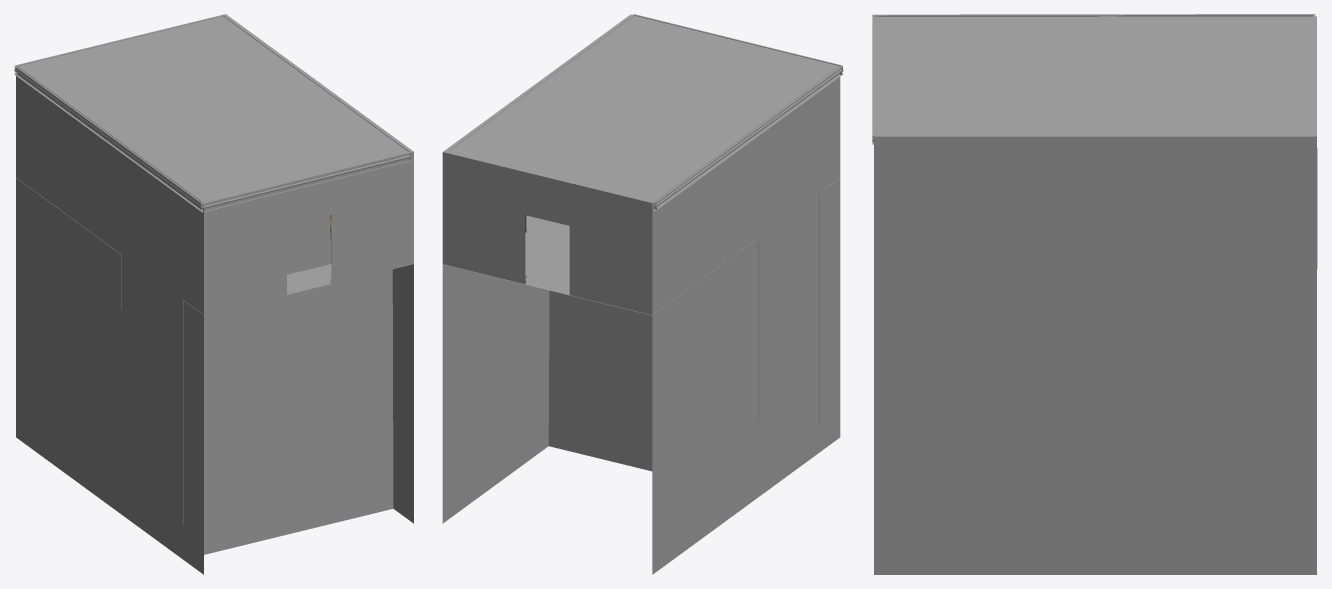
File: SM_TutorialRoom_Main_01.fbx
3 views of the same model, side by side, from view 1: azimuth 30°, elevation 25°; view 2: azimuth 150°, elevation 25°; view 3: azimuth 270°, elevation 25° (orthographic). The views are drawn at different scales.
Parts seen in each view (by area): view 1: SM_TutorialRoom_Main_Wall_01, SM_TutorialRoom_Main_Floor_01, SM_TutorialRoom_Main_Roof_01, SM_TutorialRoom_Main_Trim_01; view 2: SM_TutorialRoom_Main_Wall_01, SM_TutorialRoom_Main_Roof_01, SM_TutorialRoom_Main_Floor_01, SM_TutorialRoom_Main_Trim_01; view 3: SM_TutorialRoom_Main_Wall_01, SM_TutorialRoom_Main_Roof_01, SM_TutorialRoom_Main_Trim_01.
Part boxes in pixels (box(x1,y1,x2,y2)): SM_TutorialRoom_Main_Wall_01: box(16, 67, 413, 574); SM_TutorialRoom_Main_Floor_01: box(15, 177, 393, 554); SM_TutorialRoom_Main_Roof_01: box(16, 14, 413, 202); SM_TutorialRoom_Main_Trim_01: box(14, 14, 411, 212); SM_TutorialRoom_Main_Wall_01: box(442, 66, 840, 574); SM_TutorialRoom_Main_Roof_01: box(443, 14, 839, 202); SM_TutorialRoom_Main_Floor_01: box(443, 178, 839, 471); SM_TutorialRoom_Main_Trim_01: box(446, 14, 843, 210); SM_TutorialRoom_Main_Wall_01: box(874, 136, 1316, 574); SM_TutorialRoom_Main_Roof_01: box(874, 16, 1316, 136); SM_TutorialRoom_Main_Trim_01: box(872, 14, 1315, 144).
Size of the model in its own units: 1198 by 2008 by 1847.
